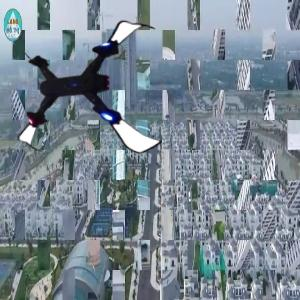drone: (19, 10, 169, 160)
